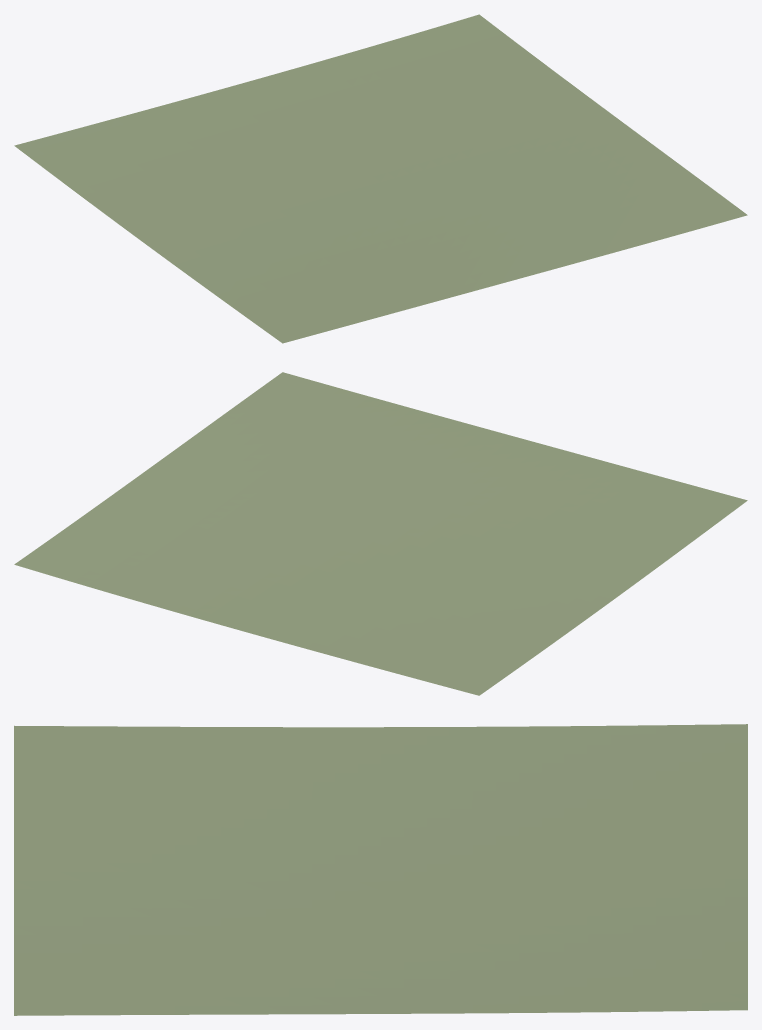
Rendered from expanse-20-17.glb.
The picture shows the model from 3 angles, top to bottom: view 1: azimuth 30°, elevation 25°; view 2: azimuth 150°, elevation 25°; view 3: azimuth 270°, elevation 25°; orthographic projection. The views are drawn at different scales.
Visible parts, largest first — view 1: expanse-20-17; view 2: expanse-20-17; view 3: expanse-20-17.
Boxes of the visible parts, <box> form: expanse-20-17: <box>14,14,747,343</box>; expanse-20-17: <box>14,372,747,695</box>; expanse-20-17: <box>14,724,747,1015</box>.
Size of the model in its own units: 256 by 10.47 by 256.
